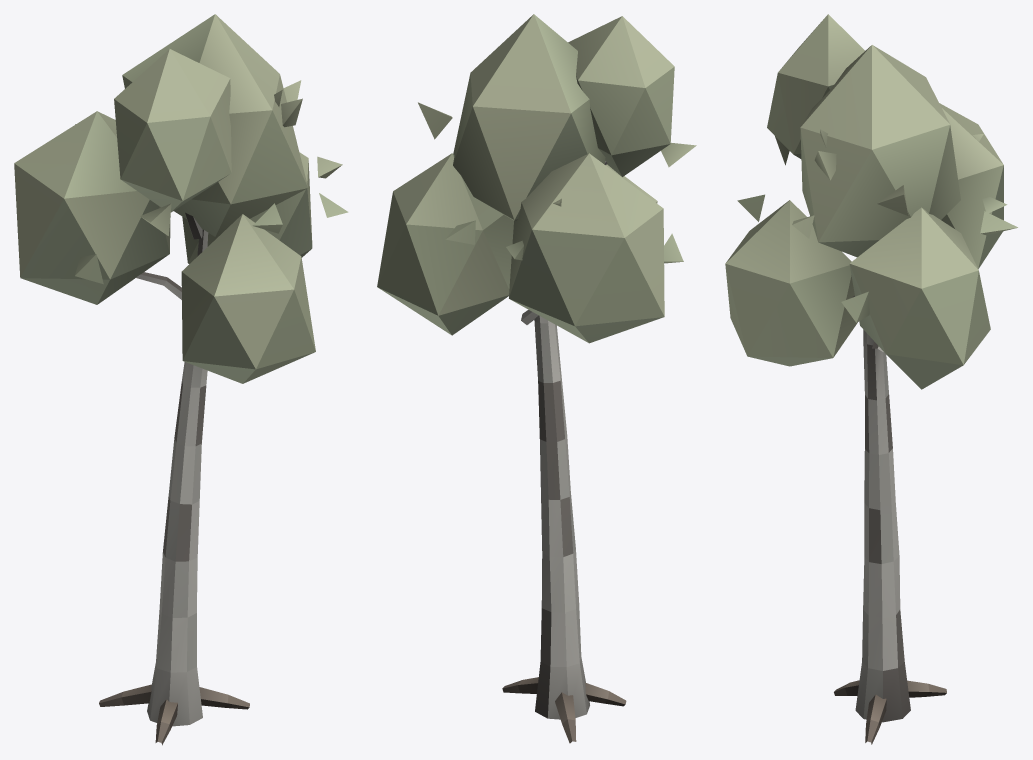
The model's file is birch.glb.
3 views of the same model, side by side, from view 1: azimuth 30°, elevation 25°; view 2: azimuth 150°, elevation 25°; view 3: azimuth 270°, elevation 25° (orthographic). The views are drawn at different scales.
Size of the model in its own units: 2.99 by 6.91 by 2.67.
